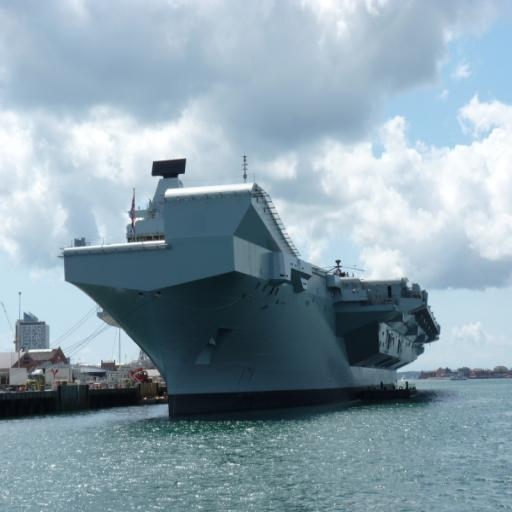Portanaves: (51, 137, 444, 427)
